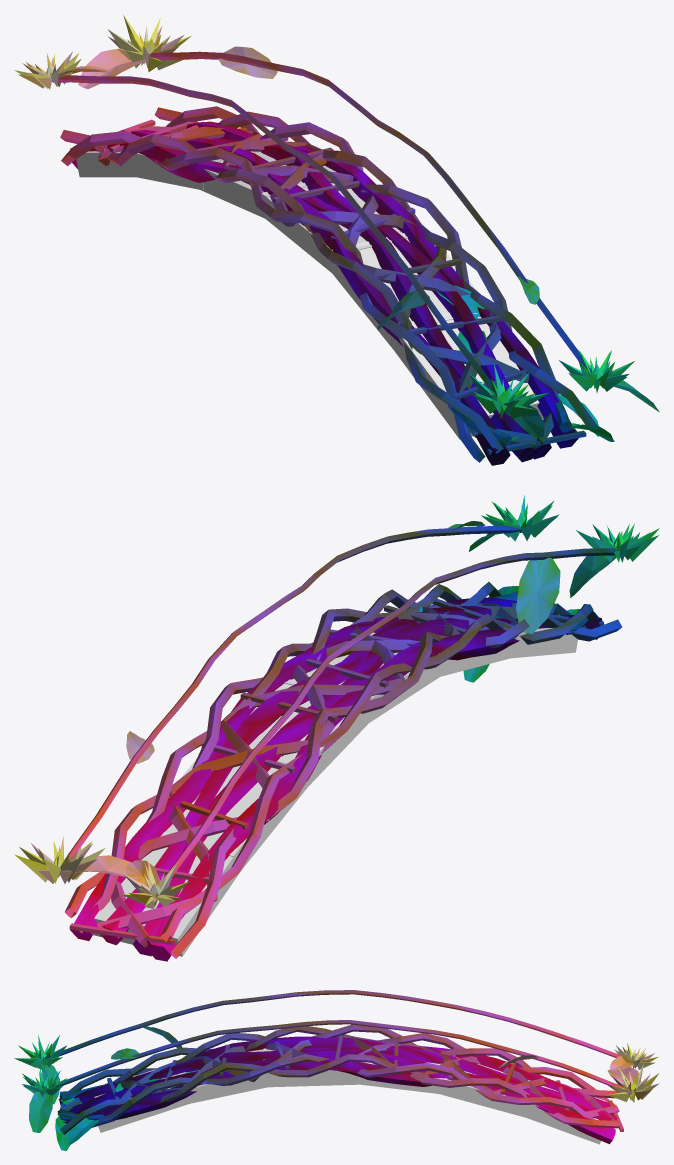
File: Plant_Bridge_06.fbx
The picture shows the model from 3 angles, top to bottom: view 1: azimuth 30°, elevation 25°; view 2: azimuth 150°, elevation 25°; view 3: azimuth 270°, elevation 25°; orthographic projection. The views are drawn at different scales.
Visible parts, largest first — view 1: Plant_Bridge_06, COL_06_0, COL_06_1, COL_06_2, COL_06_3, COL_06_5, COL_06_4; view 2: Plant_Bridge_06, COL_06_5, COL_06_4, COL_06_3, COL_06_0, COL_06_2, COL_06_1; view 3: Plant_Bridge_06, COL_06_2, COL_06_1, COL_06_4, COL_06_5, COL_06_0, COL_06_3.
Part boxes in pixels (x1,y1,x2,y2): Plant_Bridge_06: [14, 14, 659, 465]; COL_06_0: [389, 312, 543, 439]; COL_06_1: [332, 228, 477, 349]; COL_06_2: [262, 182, 407, 274]; COL_06_3: [198, 151, 336, 218]; COL_06_5: [76, 151, 135, 177]; COL_06_4: [133, 151, 260, 190]; Plant_Bridge_06: [14, 495, 659, 961]; COL_06_5: [93, 832, 239, 956]; COL_06_4: [144, 756, 311, 874]; COL_06_3: [249, 679, 370, 788]; COL_06_0: [505, 628, 577, 658]; COL_06_2: [284, 632, 441, 723]; COL_06_1: [369, 634, 512, 676]; Plant_Bridge_06: [14, 990, 659, 1150]; COL_06_2: [263, 1048, 364, 1087]; COL_06_1: [179, 1049, 272, 1104]; COL_06_4: [439, 1057, 533, 1117]; COL_06_5: [522, 1080, 605, 1144]; COL_06_0: [94, 1069, 187, 1132]; COL_06_3: [356, 1062, 447, 1094].
Bounding box in the file's own units: 2.57 × 2.53 × 11.91.
